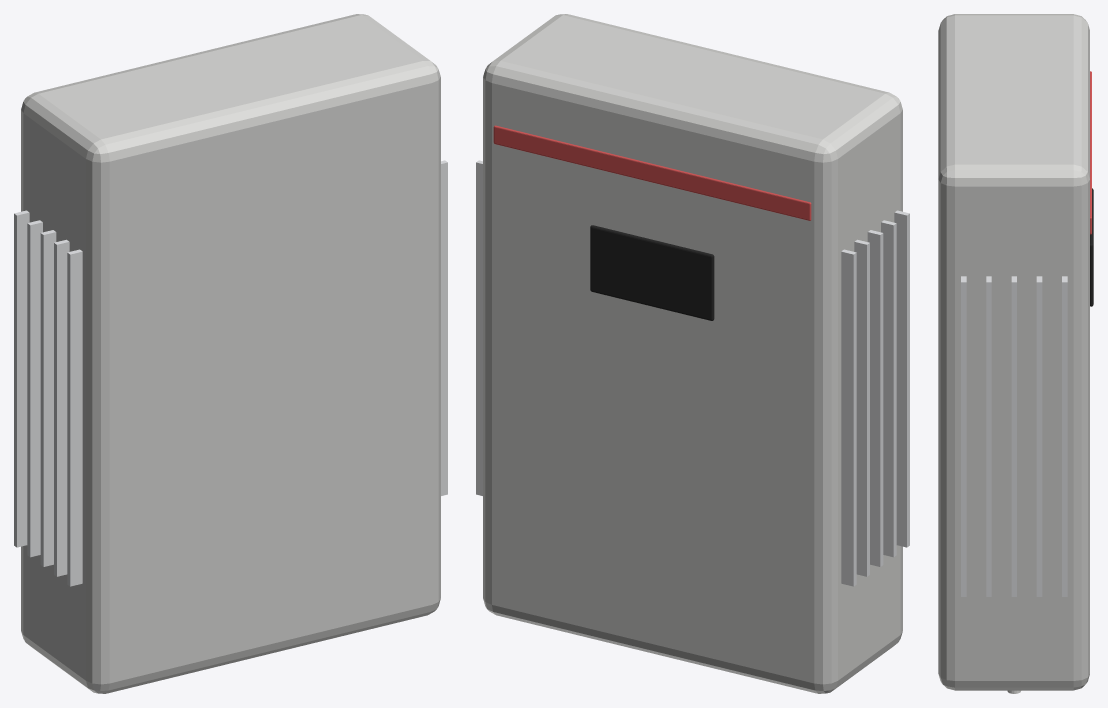
File: srne-hf4850s80-h.glb
The picture shows the model from 3 angles, left to right: view 1: azimuth 30°, elevation 25°; view 2: azimuth 150°, elevation 25°; view 3: azimuth 270°, elevation 25°; orthographic projection. The views are drawn at different scales.
Visible parts, largest first — view 1: body, fin--1-0, fin--1-2, fin--1-1, fin--1-3, fin--1-4, fin-1-0; view 2: body, display, stripe, fin--1-4, fin--1-2, fin--1-0, fin--1-1, fin--1-3, fin-1-4; view 3: body, fin-1-3, fin-1-0, fin-1-1, fin-1-2, fin-1-4, display, stripe.
Boxes of the visible parts, x1,y1,x2,y2 form: body: [21, 14, 440, 693]; fin--1-0: [67, 249, 82, 586]; fin--1-2: [40, 230, 56, 566]; fin--1-1: [54, 239, 69, 576]; fin--1-3: [27, 220, 42, 557]; fin--1-4: [14, 210, 29, 547]; fin-1-0: [441, 160, 447, 495]; body: [483, 14, 902, 693]; display: [590, 225, 714, 320]; stripe: [493, 125, 811, 220]; fin--1-4: [841, 249, 856, 586]; fin--1-2: [867, 230, 883, 566]; fin--1-0: [894, 210, 909, 547]; fin--1-1: [881, 220, 896, 557]; fin--1-3: [854, 239, 869, 576]; fin-1-4: [476, 160, 482, 495]; body: [938, 14, 1089, 690]; fin-1-3: [1036, 276, 1042, 596]; fin-1-0: [961, 276, 966, 596]; fin-1-1: [986, 276, 991, 596]; fin-1-2: [1011, 276, 1016, 596]; fin-1-4: [1062, 276, 1067, 596]; display: [1090, 188, 1093, 306]; stripe: [1090, 71, 1091, 234].
Bounding box in the file's own units: 0.3 × 0.438 × 0.1125.
